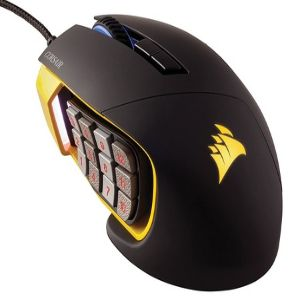mouse: (9, 6, 287, 293)
